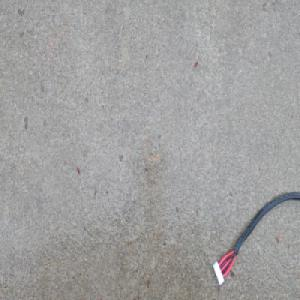Wire: (212, 191, 300, 286)
